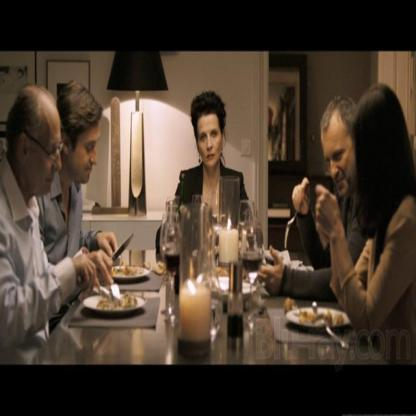face: (35, 125, 65, 195), (325, 122, 354, 193), (76, 115, 101, 186), (200, 115, 221, 173)
